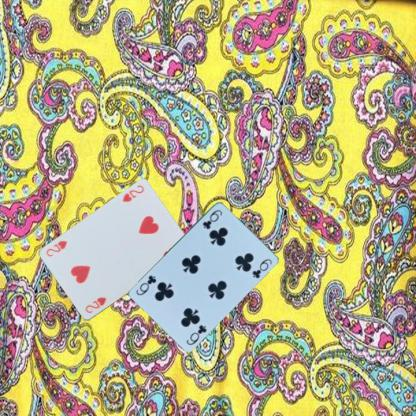2h: (120, 182, 145, 204), (82, 295, 107, 315)
6c: (184, 322, 208, 346), (200, 207, 224, 230)
